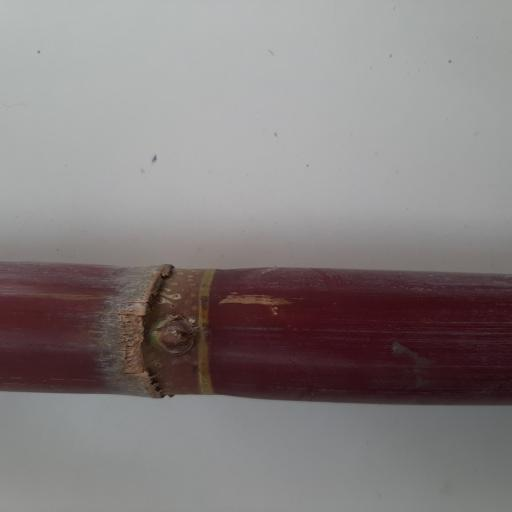Bud: (150, 314, 198, 355)
